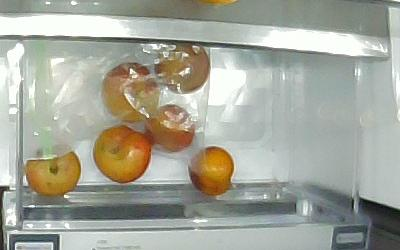prune: (93, 125, 150, 183), (25, 145, 81, 197)
prune_vinyl: (102, 62, 159, 122), (154, 44, 209, 93), (146, 104, 195, 152), (188, 146, 234, 195)
